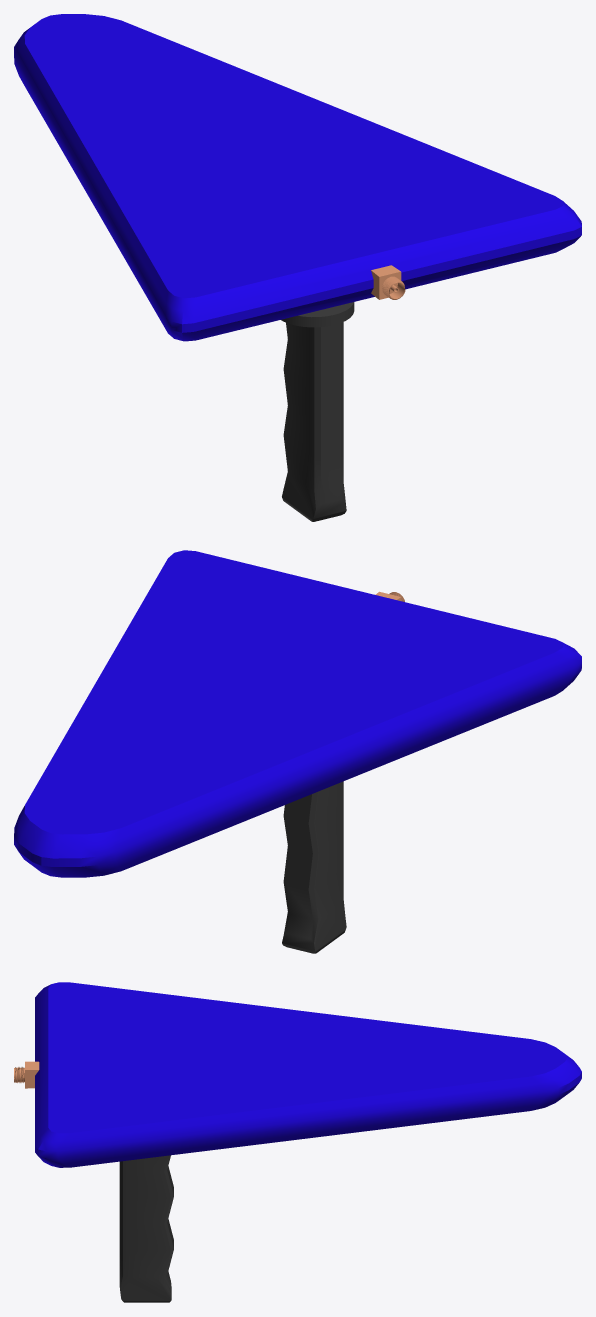
File: EtalonAntenna.fbx
3 views of the same model, one above another, from view 1: azimuth 30°, elevation 25°; view 2: azimuth 150°, elevation 25°; view 3: azimuth 270°, elevation 25° (orthographic). The views are drawn at different scales.
Parts seen in each view (by area): view 1: Цилиндр, Grip; view 2: Цилиндр, Grip; view 3: Цилиндр, Grip.
Part boxes in pixels (left/top/right/bottom): Цилиндр: left=14, top=14, right=581, bottom=341; Grip: left=281, top=302, right=354, bottom=521; Цилиндр: left=14, top=550, right=581, bottom=877; Grip: left=282, top=781, right=346, bottom=953; Цилиндр: left=14, top=982, right=581, bottom=1167; Grip: left=119, top=1155, right=173, bottom=1302.
Bounding box in the file's own units: 163 × 114 × 245.
